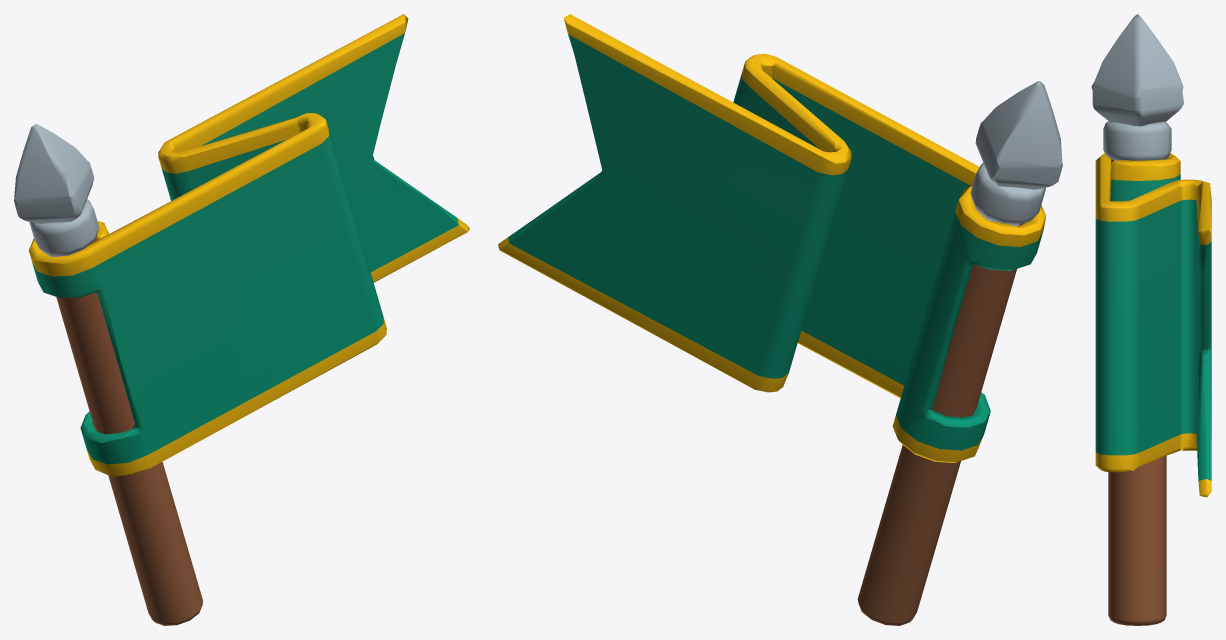
3 views of the same model, side by side, from view 1: azimuth 30°, elevation 25°; view 2: azimuth 150°, elevation 25°; view 3: azimuth 270°, elevation 25° (orthographic). The views are drawn at different scales.
Parts seen in each view (by area): view 1: model_1.056; view 2: model_1.056; view 3: model_1.056.
Part boxes in pixels (x1=…): model_1.056: x1=14, y1=14, x2=469, y2=625; model_1.056: x1=498, y1=14, x2=1062, y2=625; model_1.056: x1=1091, y1=14, x2=1211, y2=625.
Bounding box in the file's own units: 4.45 × 4.61 × 0.9261.
